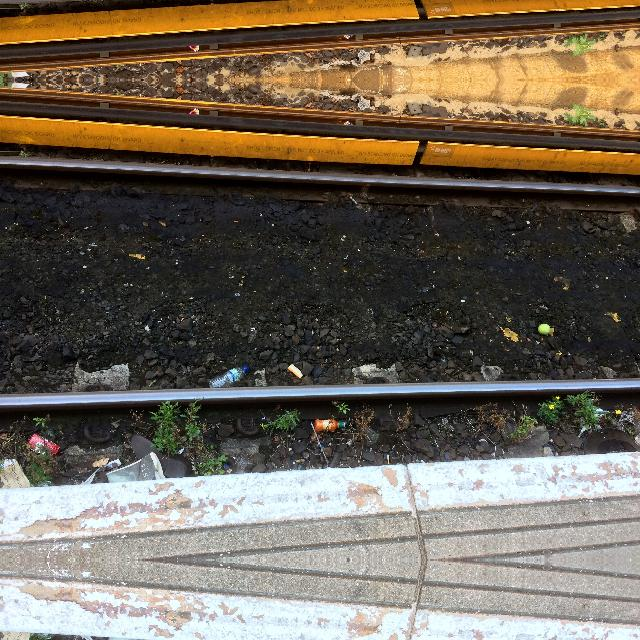Metal: (249, 326, 257, 332), (234, 292, 240, 298)
Paper: (104, 451, 166, 492), (78, 457, 122, 489), (0, 457, 34, 489), (103, 628, 166, 640), (77, 631, 122, 640), (0, 631, 34, 640)
Plastic: (206, 364, 250, 392), (24, 432, 62, 458), (308, 421, 329, 464), (313, 418, 347, 432)
